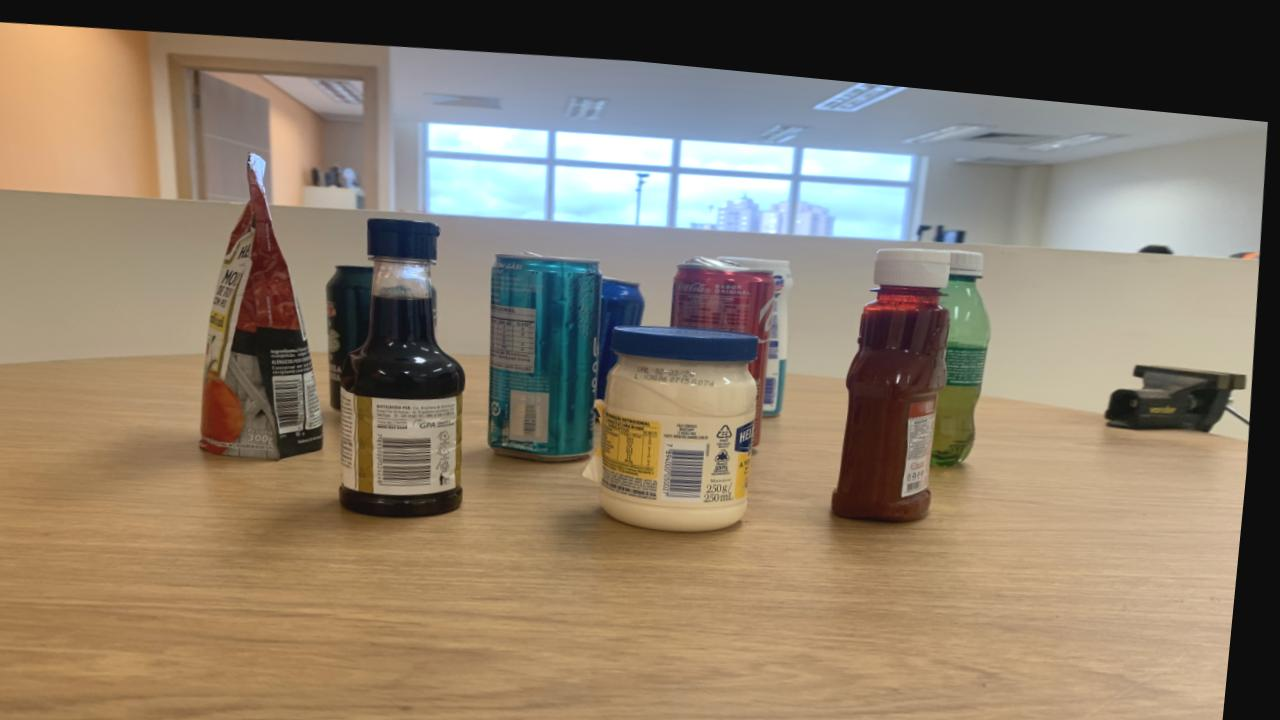Cleaner-Cleanup_Items: (727, 242, 797, 400)
Coke-Drinks: (677, 252, 779, 409)
English_Sauce-Pantry_Items: (346, 211, 472, 508)
Guarana-Drinks: (938, 230, 996, 447)
Guarana_Can-Drinks: (331, 258, 378, 401)
Ketchup-Pantry_Items: (840, 229, 954, 503)
Mayonnaise-Pantry_Items: (603, 312, 765, 517)
Tea-Drinks: (495, 241, 606, 450)
Tomato_Sauce-Pantry_Items: (207, 149, 331, 452)
Tonic-Drinks: (604, 263, 650, 386)
